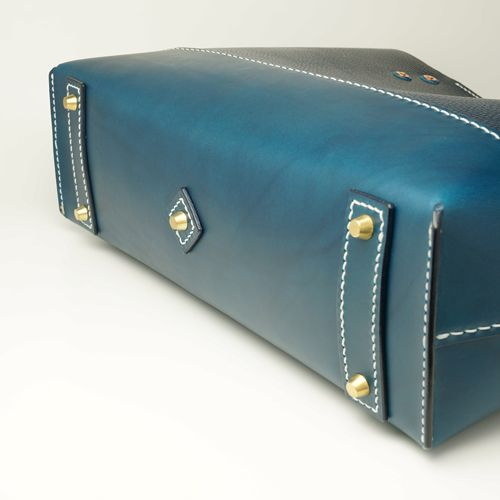cuero: (47, 50, 500, 449)
